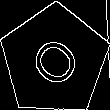O_SE: (22, 27, 87, 93)
